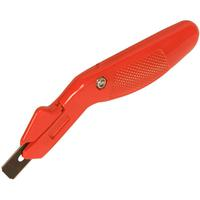knife: (1, 23, 197, 180)
